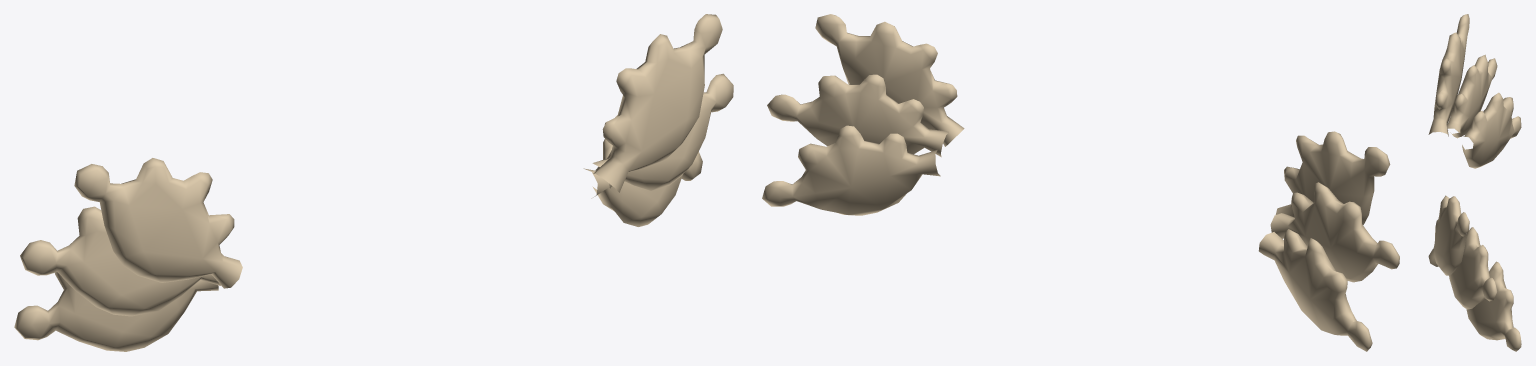
File: S12_Bird04_L2_Ear.glb
3 views of the same model, side by side, from view 1: azimuth 30°, elevation 25°; view 2: azimuth 150°, elevation 25°; view 3: azimuth 270°, elevation 25° (orthographic). The views are drawn at different scales.
Visible parts, largest first — view 1: S12_Bird04_L2_Ear__Ear_L__surface0__lod0, S12_Bird04_L2_Ear__Ear_R__surface1__lod0; view 2: S12_Bird04_L2_Ear__Ear_R__surface1__lod0, S12_Bird04_L2_Ear__Ear_L__surface0__lod0; view 3: S12_Bird04_L2_Ear__Ear_L__surface0__lod0, S12_Bird04_L2_Ear__Ear_R__surface1__lod0.
Boxes of the visible parts, x1,y1,x2,y2 form: S12_Bird04_L2_Ear__Ear_L__surface0__lod0: (14,158,242,351); S12_Bird04_L2_Ear__Ear_R__surface1__lod0: (583,14,733,226); S12_Bird04_L2_Ear__Ear_R__surface1__lod0: (762,14,964,215); S12_Bird04_L2_Ear__Ear_L__surface0__lod0: (1258,131,1399,351); S12_Bird04_L2_Ear__Ear_L__surface0__lod0: (1428,14,1521,168); S12_Bird04_L2_Ear__Ear_R__surface1__lod0: (1428,195,1521,351).
Size of the model in its own units: 1.49 by 0.4163 by 0.2552.
